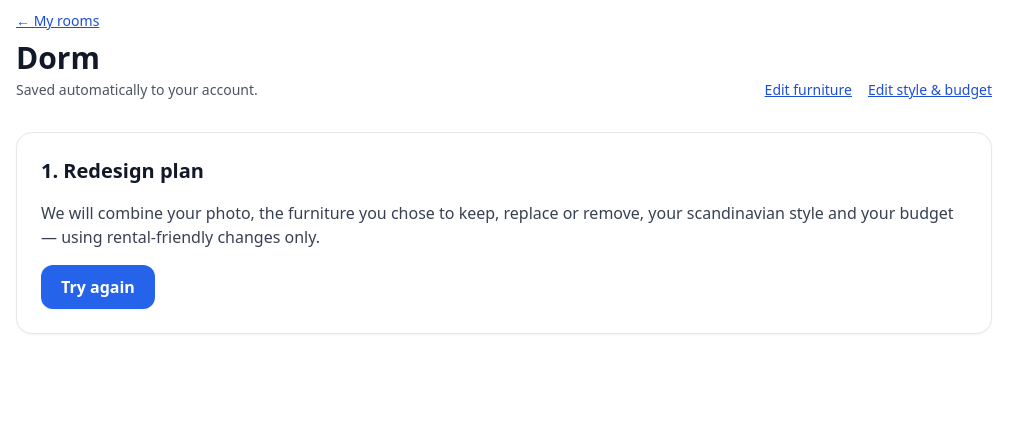
it: Without an OpenAI key (503 AI_CONFIGURATION_ERROR) › explains the missing key for the plan and keeps the page usable
This screenshot has width=1009, height=431.
Click the button "Try again".
click(98, 287)  # box [41, 265, 155, 309]
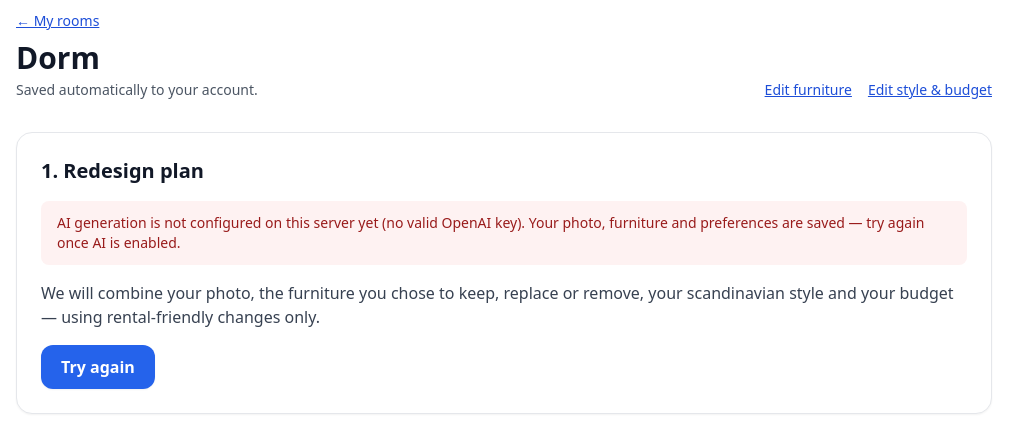
Check: the message does not show "Please retry.", box [41, 201, 967, 265]
Check: the message shows "no valid OpenAI key", box [57, 213, 924, 252]
